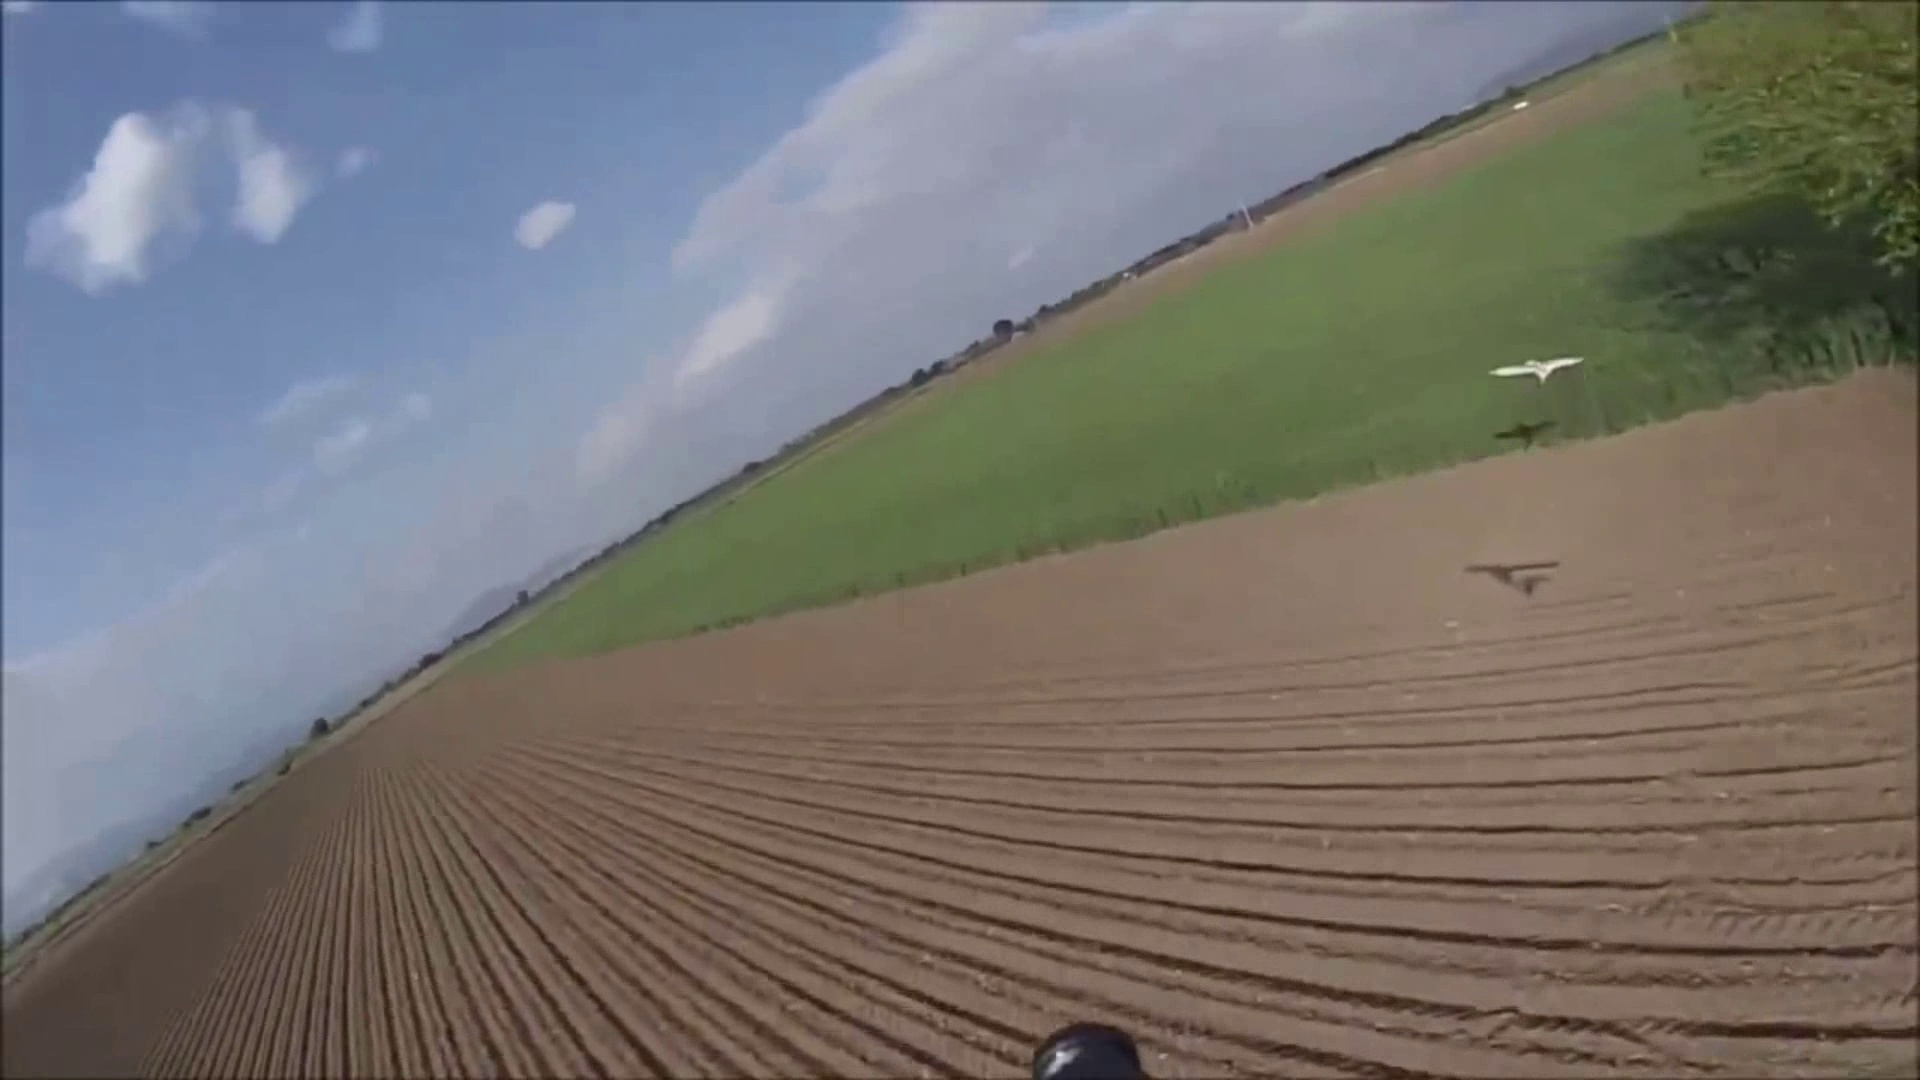airplane: (1462, 559, 1561, 596)
